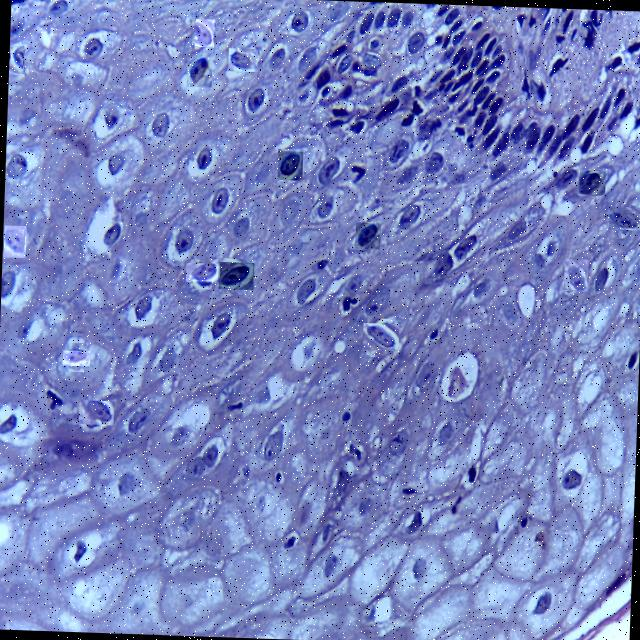Multiple Nucleol: (218, 262, 253, 289), (364, 323, 398, 350), (79, 400, 112, 425), (564, 259, 587, 291), (277, 151, 303, 179), (609, 206, 640, 229), (3, 225, 25, 257), (187, 57, 212, 85), (185, 263, 218, 282), (228, 49, 257, 70), (579, 170, 604, 194), (355, 223, 380, 247), (195, 19, 214, 47), (62, 350, 89, 364), (11, 45, 24, 74)
